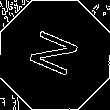N_SE: (24, 27, 86, 83)
